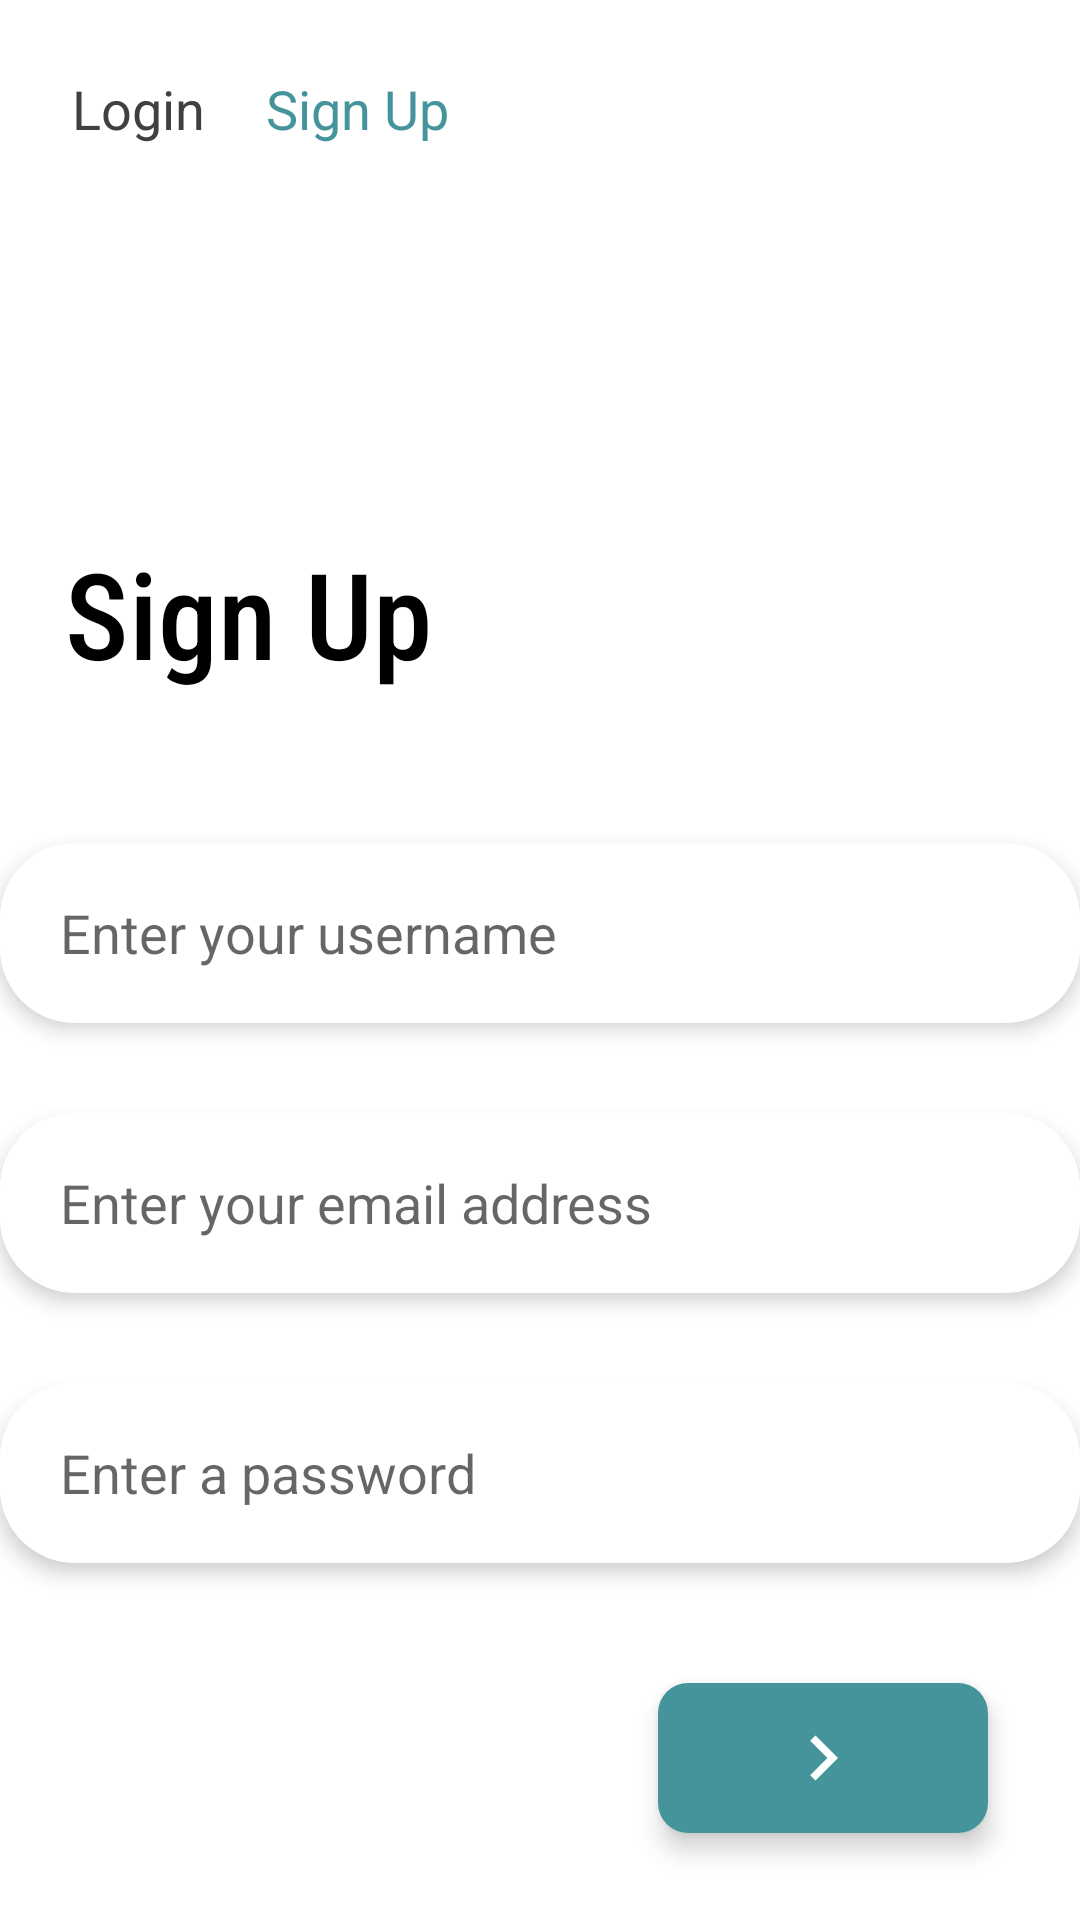

Named icons in this screenshot (1080x1920) and their bounding boxes, (x1, y1, x2, y2):
next: (658, 1683, 988, 1833)
